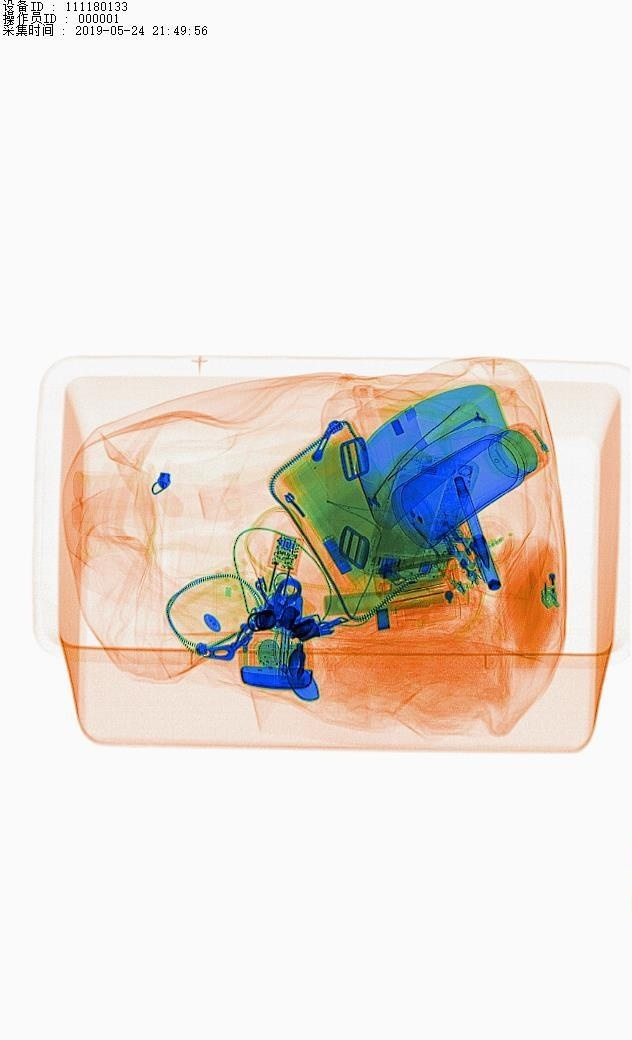NonmetallicFire: (534, 537, 568, 625)
